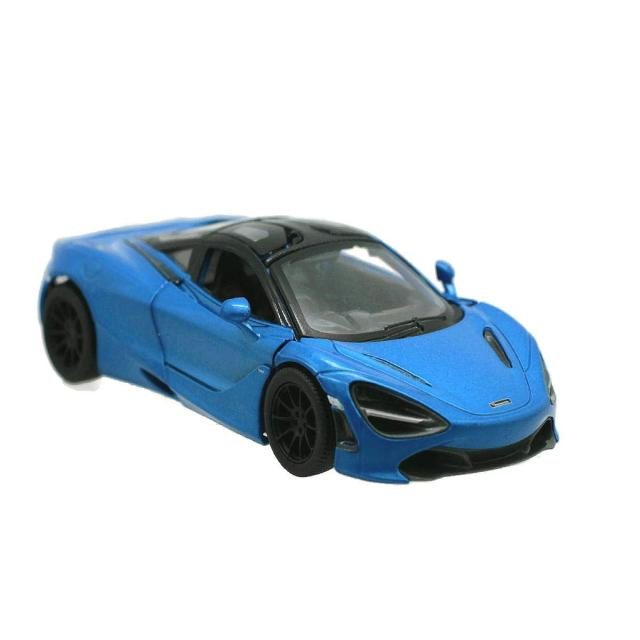Car: (37, 212, 560, 484)
